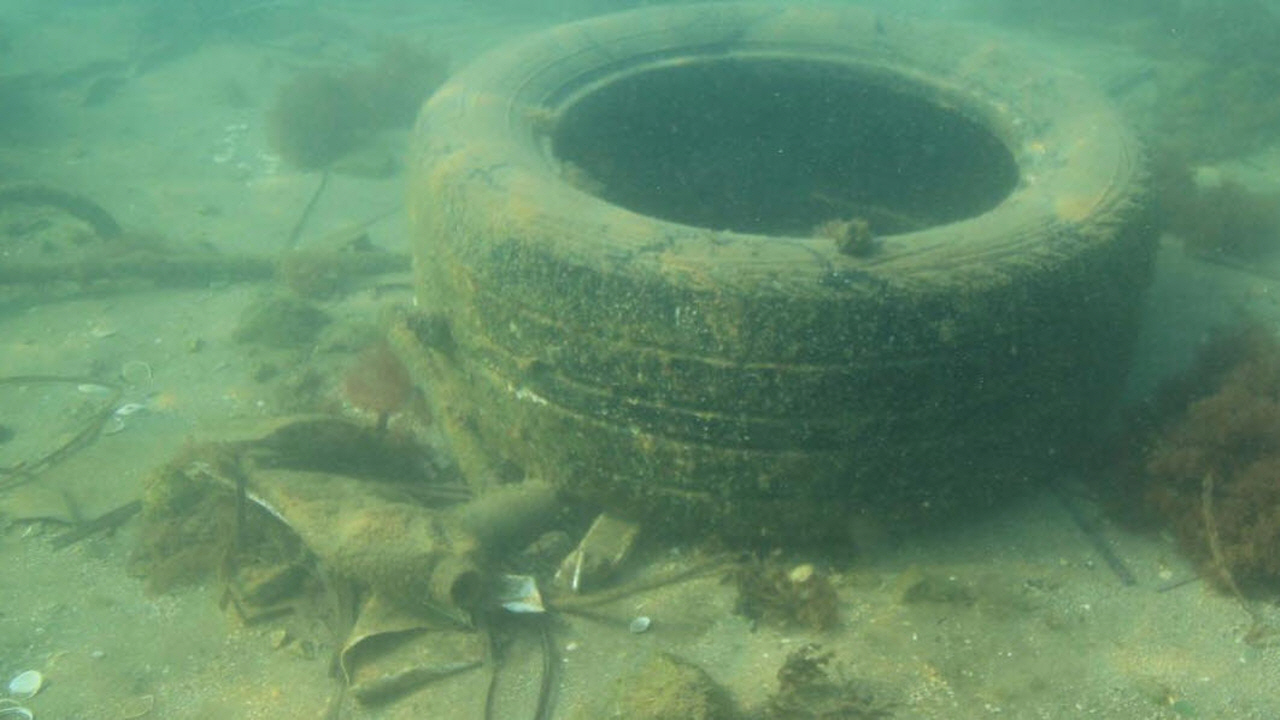rope: (0, 248, 409, 279)
tire: (404, 0, 1157, 540)
